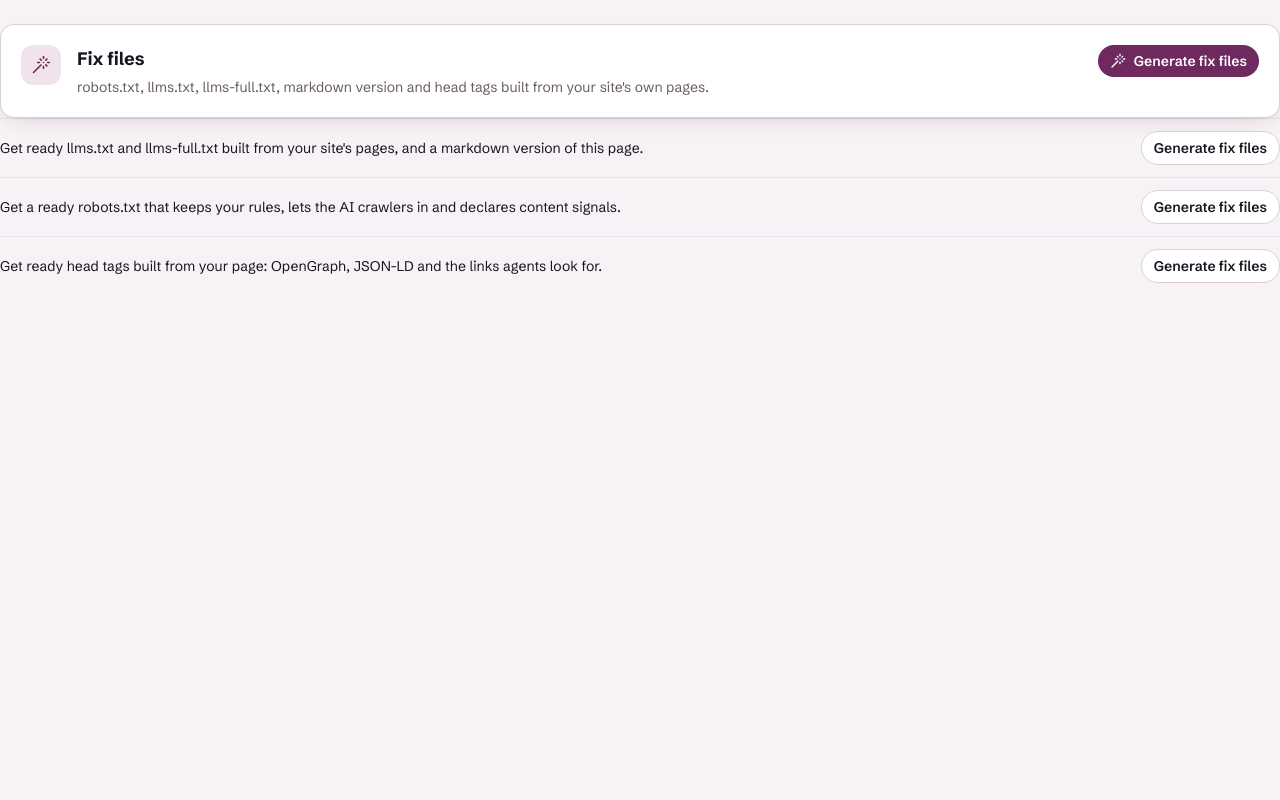
Test: Fix files › closing the account dialog without signing in forgets the press
Step 1. Click the 1st button "Generate fix files" → (1178, 61), box [1098, 45, 1259, 77]
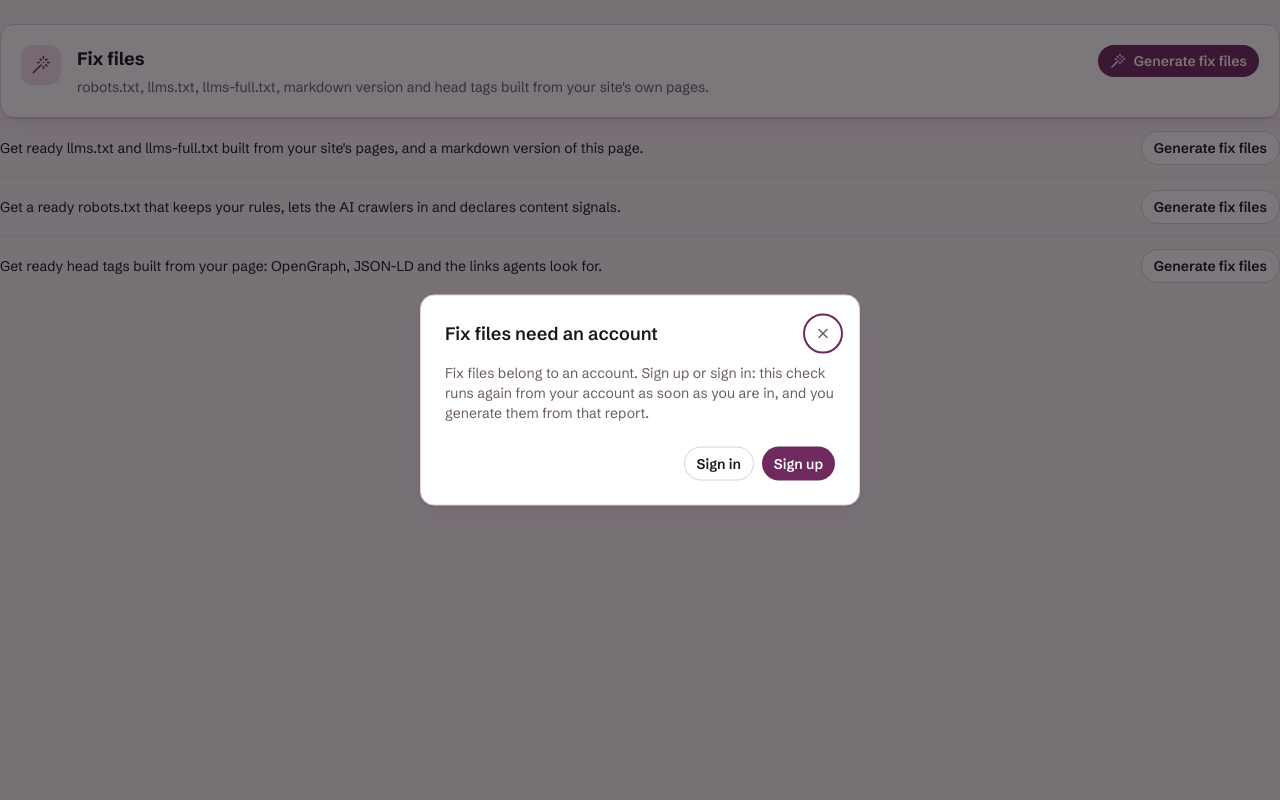
Expected: the dialog "Fix files need an account" is shown, [420, 294, 860, 506]
Step 2. Press Escape
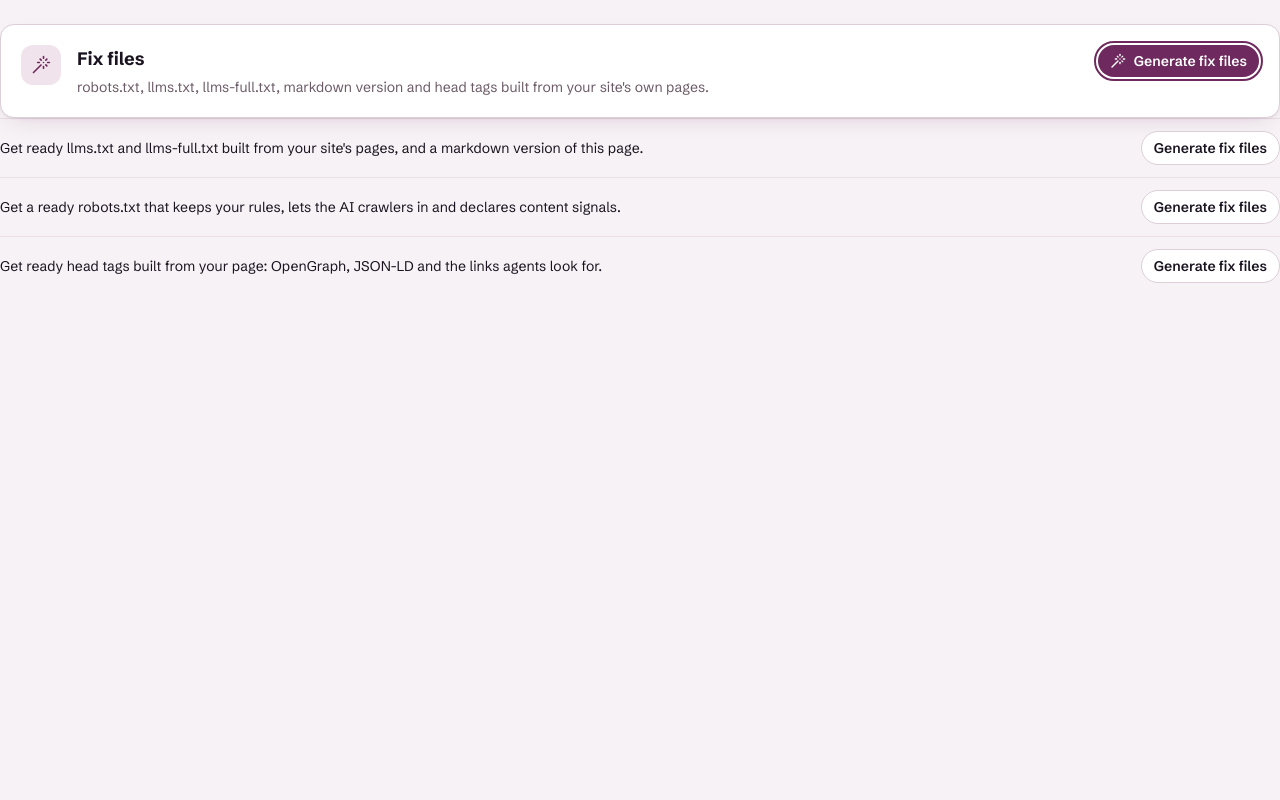
Expected: the dialog is gone
